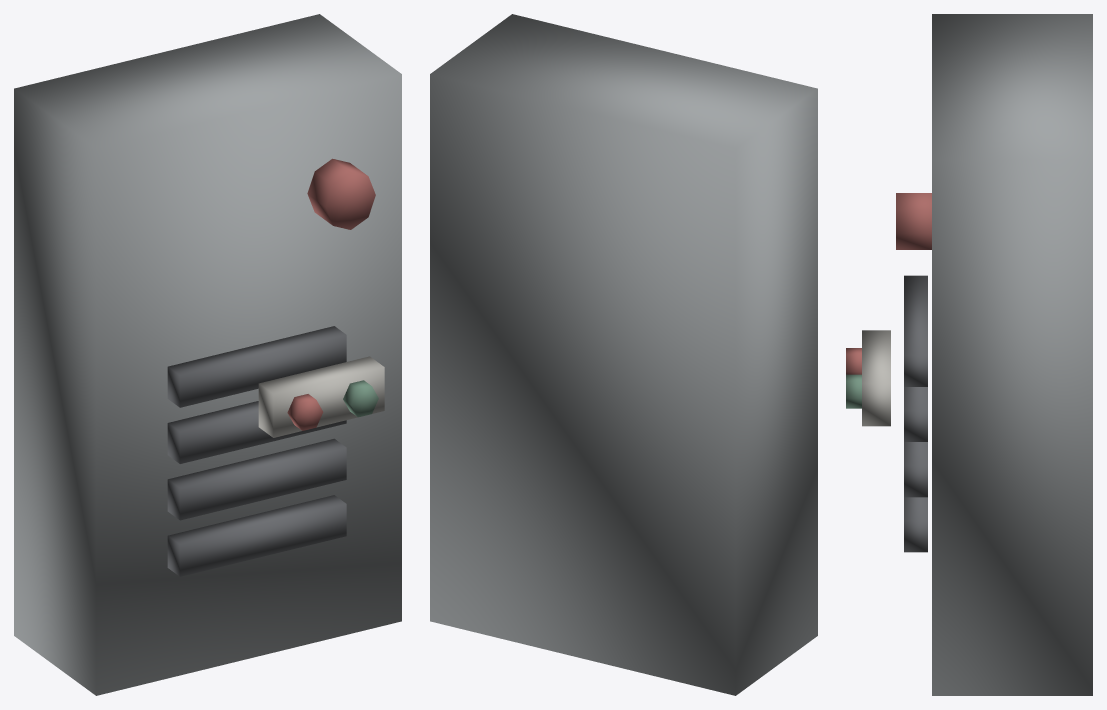
Rendered from wall_intercom__compact.glb.
The picture shows the model from 3 angles, left to right: view 1: azimuth 30°, elevation 25°; view 2: azimuth 150°, elevation 25°; view 3: azimuth 270°, elevation 25°; orthographic projection. The views are drawn at different scales.
Visible parts, largest first — view 1: world; view 2: world; view 3: world.
Boxes of the visible parts, <box> form: world: <box>14,14,401,695</box>; world: <box>430,14,817,695</box>; world: <box>846,14,1092,695</box>.
Bounding box in the file's own units: 0.1848 × 0.3162 × 0.132.
